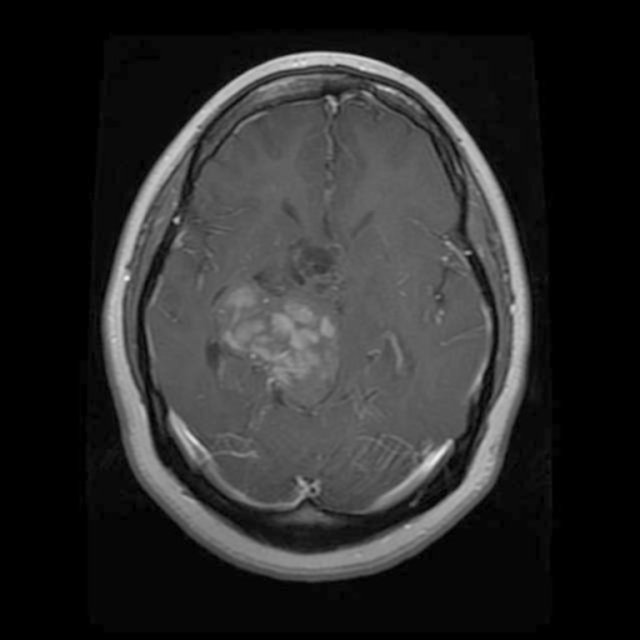pituitary tumor: (218, 284, 332, 395)
